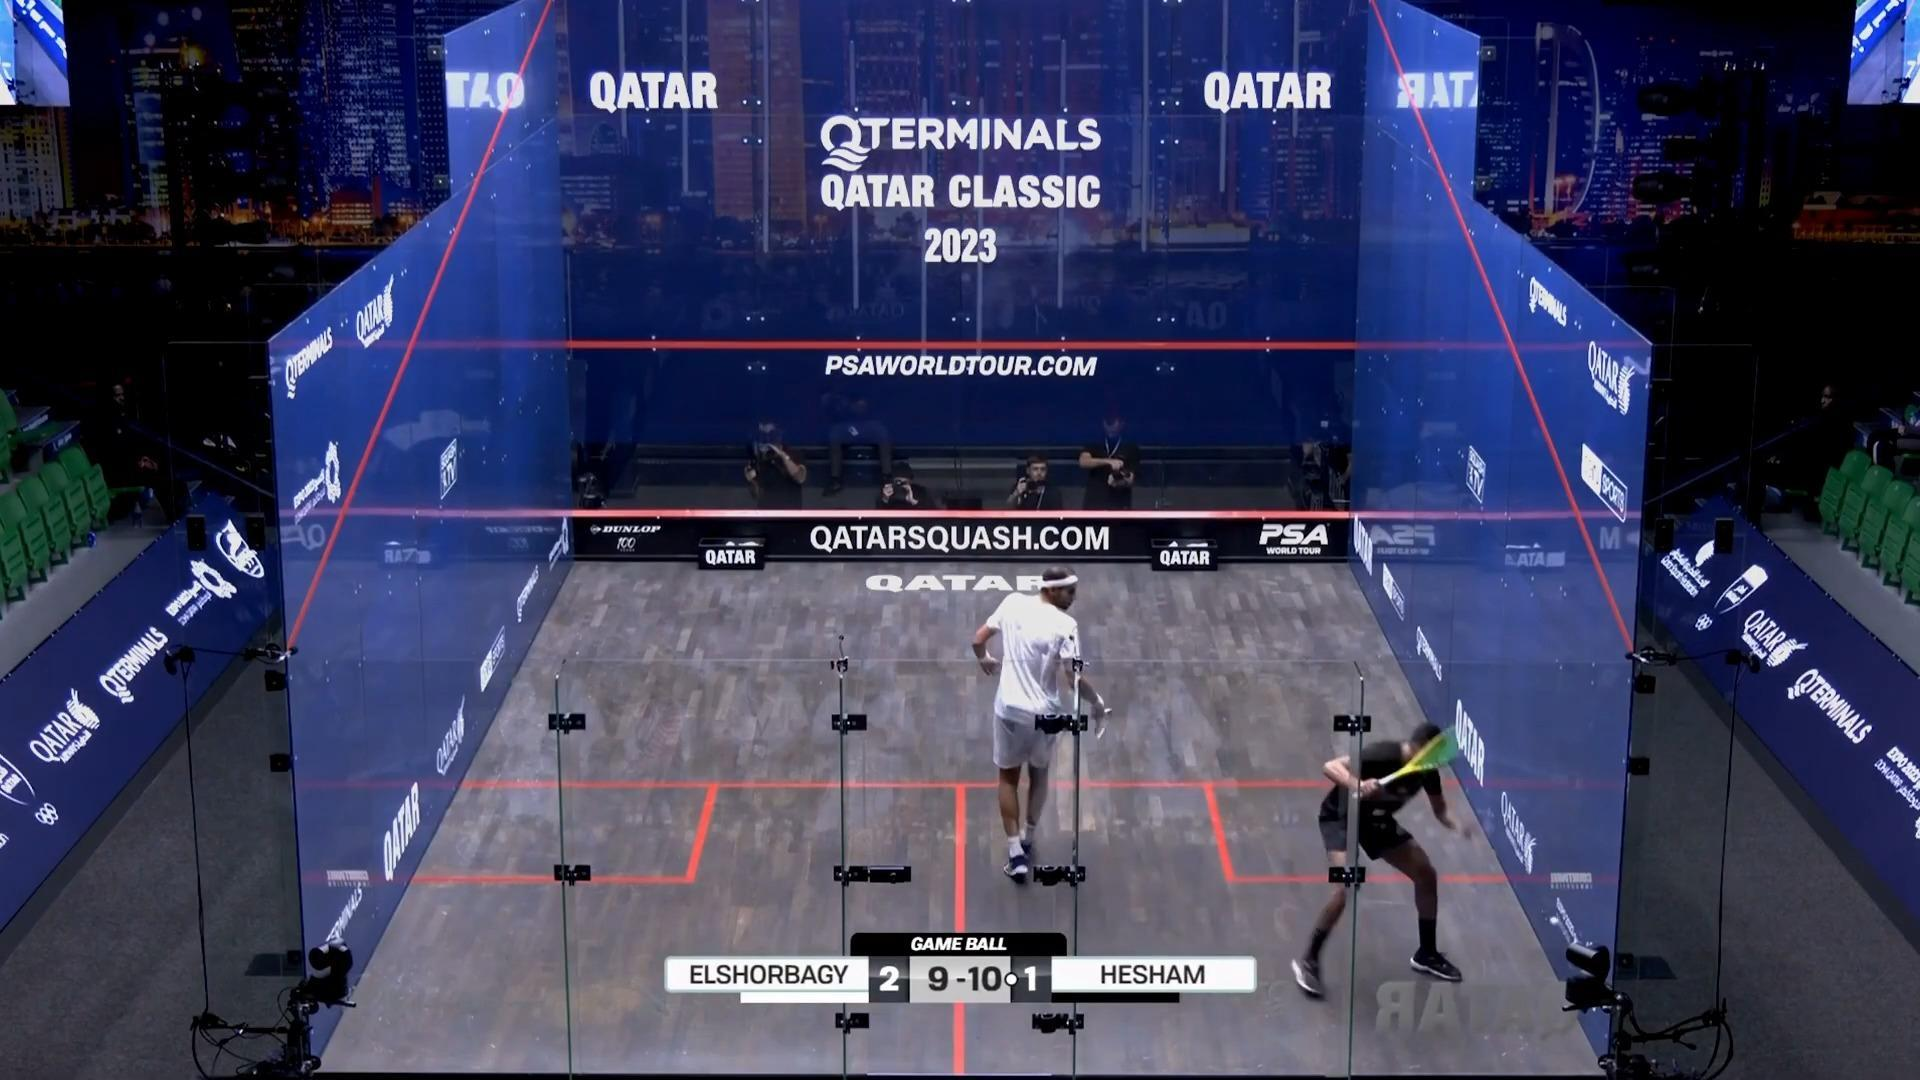Squash-Ball: (1543, 906, 1568, 936)
